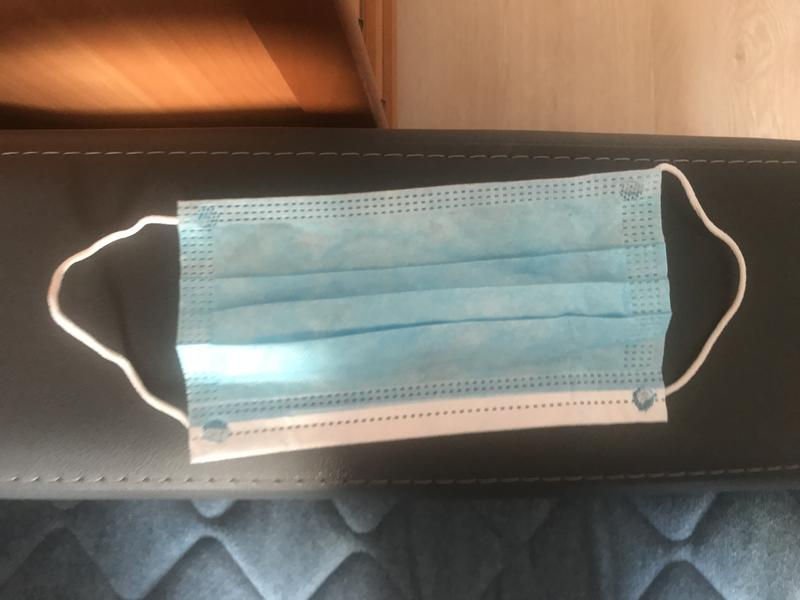medical_mask: (49, 162, 744, 462)
